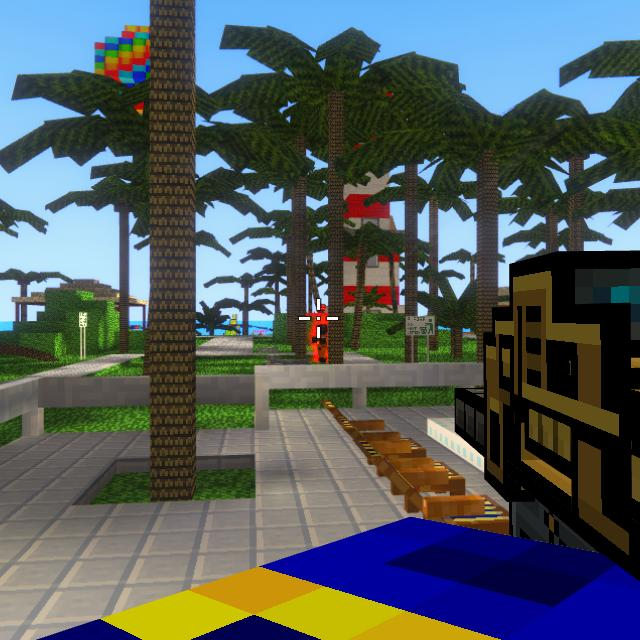Enemy: (311, 324, 328, 363)
